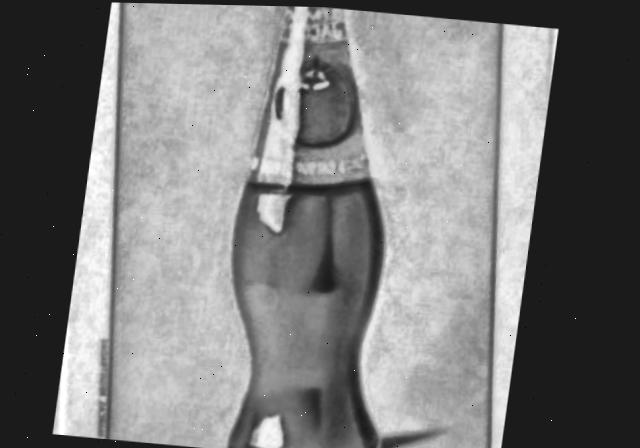La Botella: (112, 2, 502, 448)
